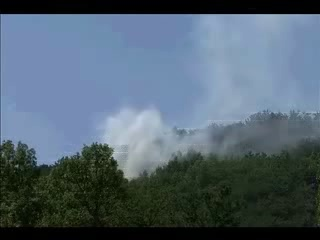smoke: (174, 14, 318, 159), (104, 106, 174, 183)
